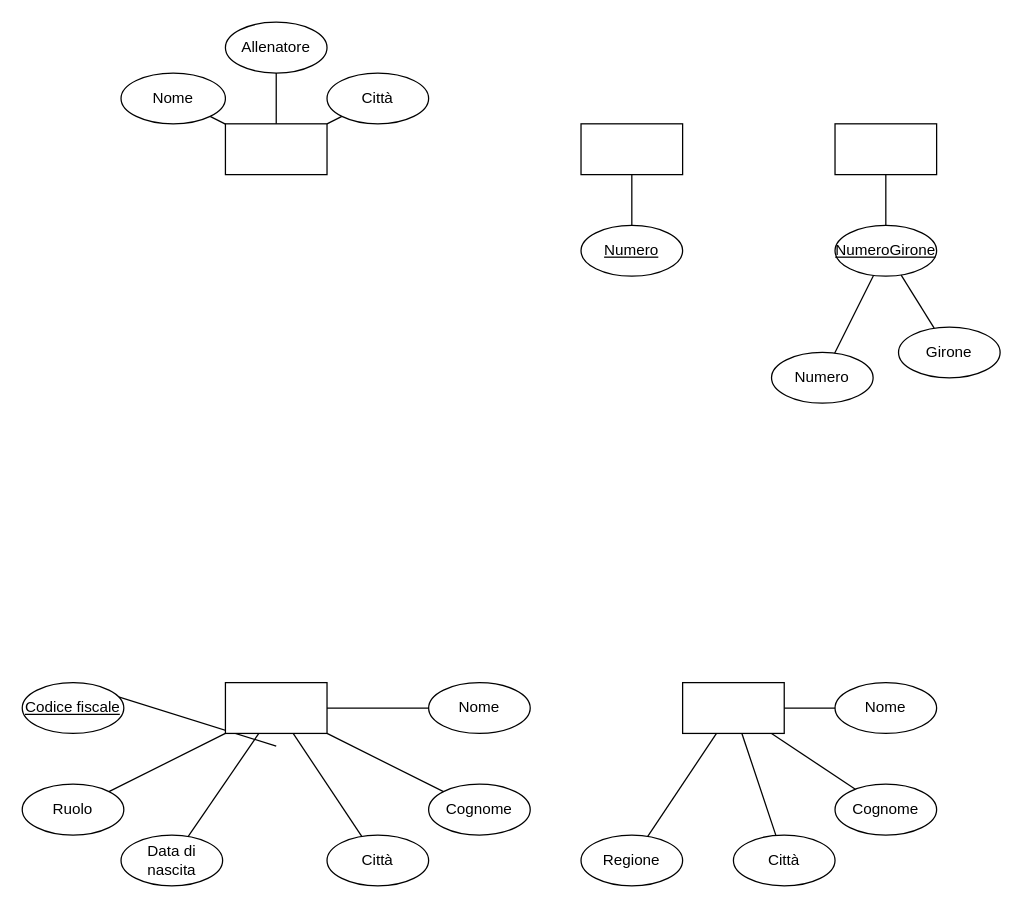
Image size: 1022x908. Some labels were removed from this diagram. Here are the shapes that lost their labels. From the top down, the box of each, then its label:
(224, 123, 327, 175): SQUADRA
(580, 123, 683, 175): PARTITA
(834, 123, 937, 175): GIORNATA
(224, 681, 327, 733): GIOCATORE
(681, 681, 784, 733): ARBITRO
